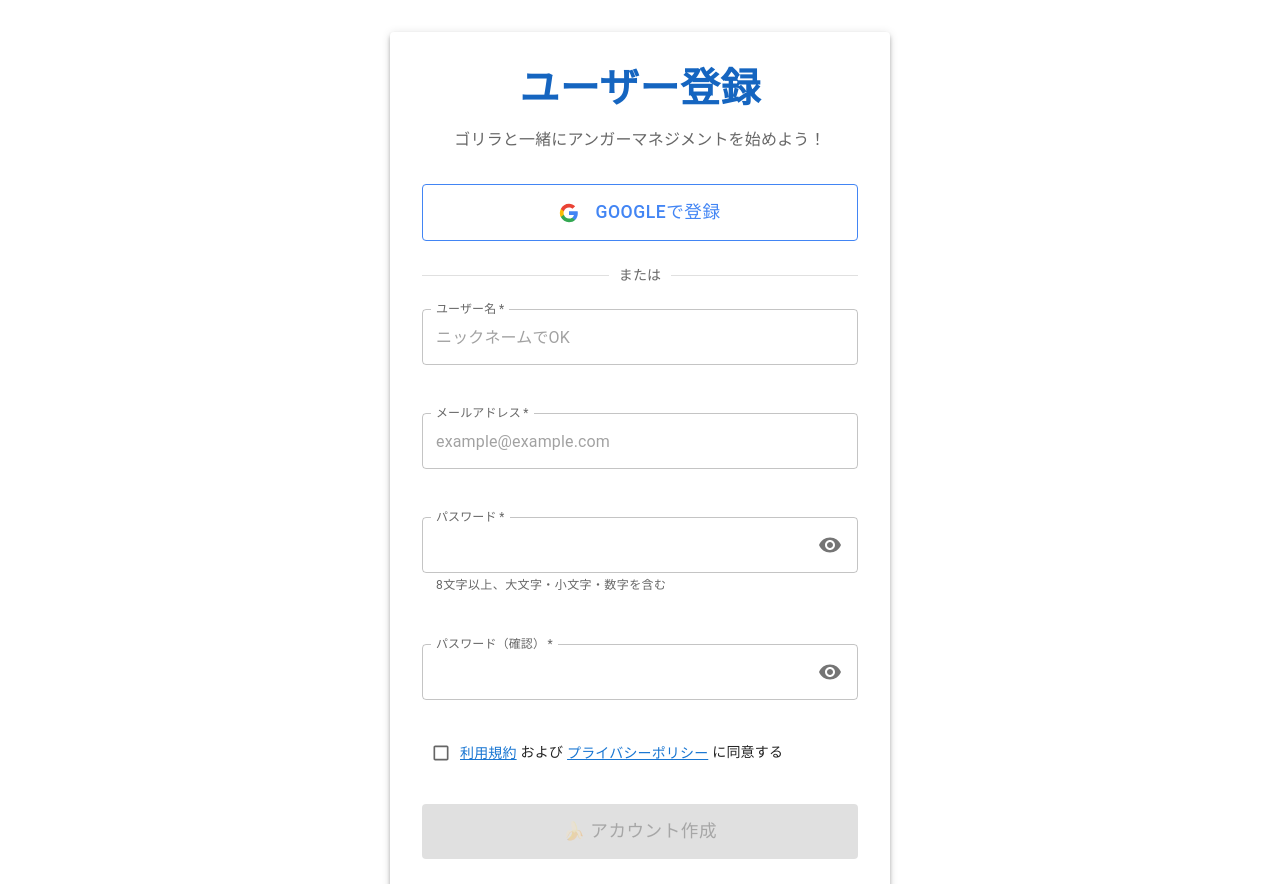
it: RegisterForm › UI インタラクション › プライバシーポリシーモーダルが開ける
Click the button "プライバシーポリシー" at {"x": 638, "y": 753}, box [567,743,708,763]
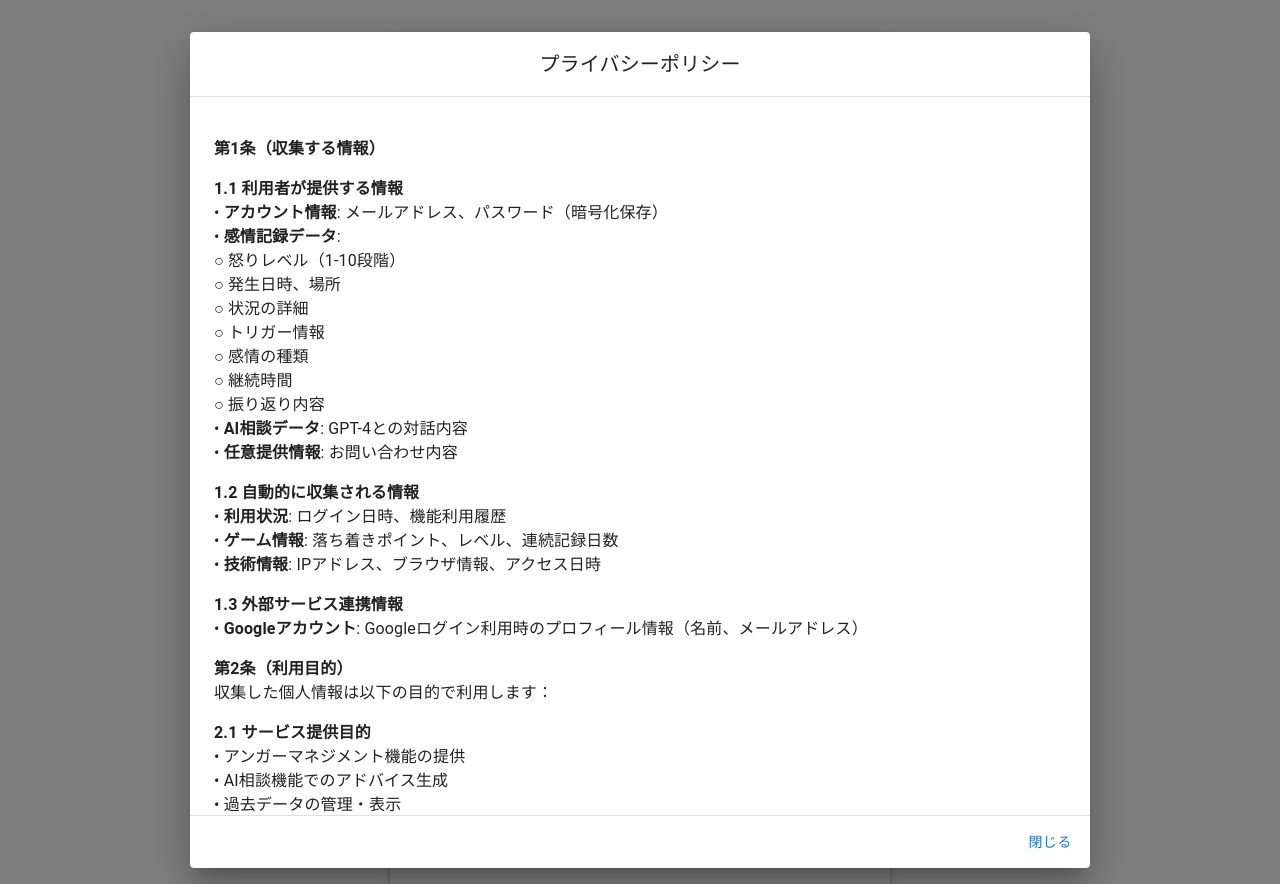
Check: the dialog is shown
